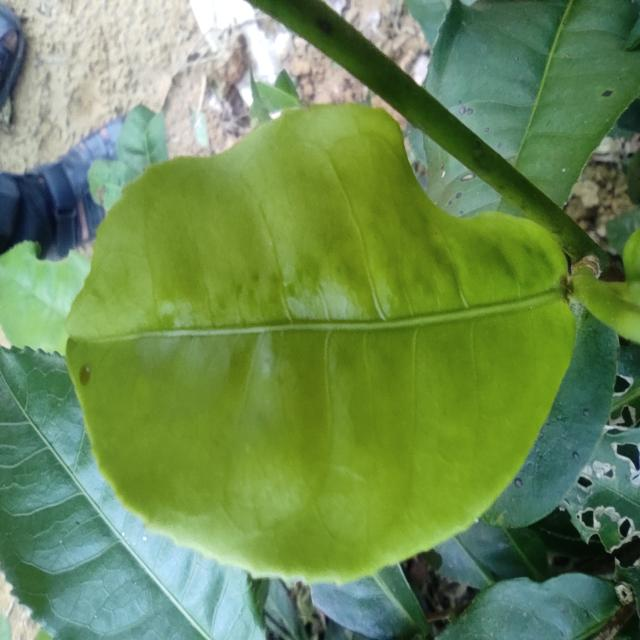Category C 4-7 days: (34, 58, 582, 603)
